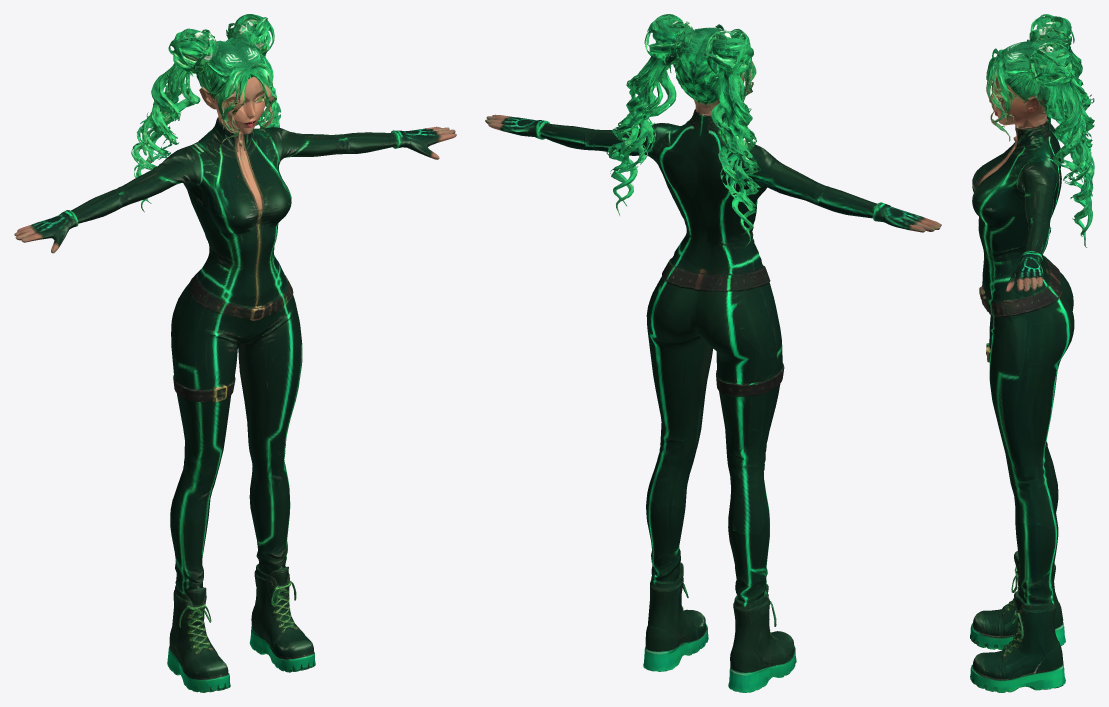
Rendered from turtle-mesh.glb.
The picture shows the model from 3 angles, left to right: view 1: azimuth 30°, elevation 25°; view 2: azimuth 150°, elevation 25°; view 3: azimuth 270°, elevation 25°; orthographic projection. The views are drawn at different scales.
Visible parts, largest first — view 1: Mesh_0; view 2: Mesh_0; view 3: Mesh_0.
Part boxes in pixels (bbox=[...]): Mesh_0: bbox=[14, 14, 456, 692]; Mesh_0: bbox=[485, 14, 941, 692]; Mesh_0: bbox=[970, 14, 1094, 692].
Size of the model in its own units: 1.38 by 1.9 by 0.3394.
1 material, 1 textured.
